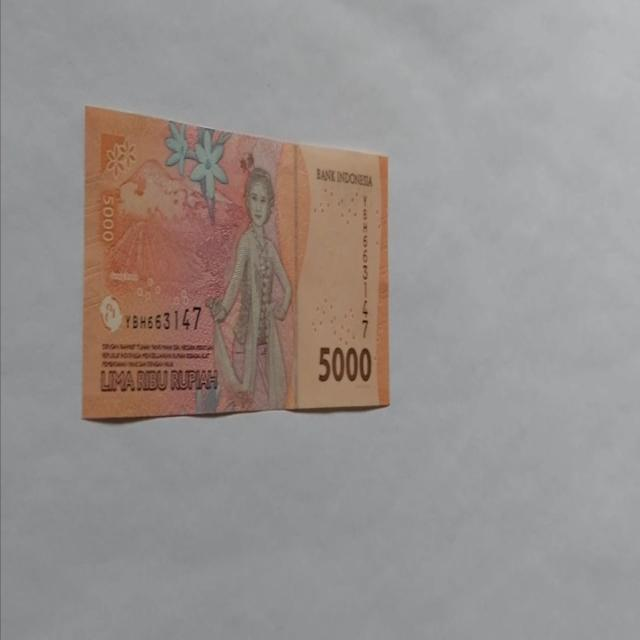lima ribu rupiah: (81, 103, 391, 421), (204, 166, 294, 412)
